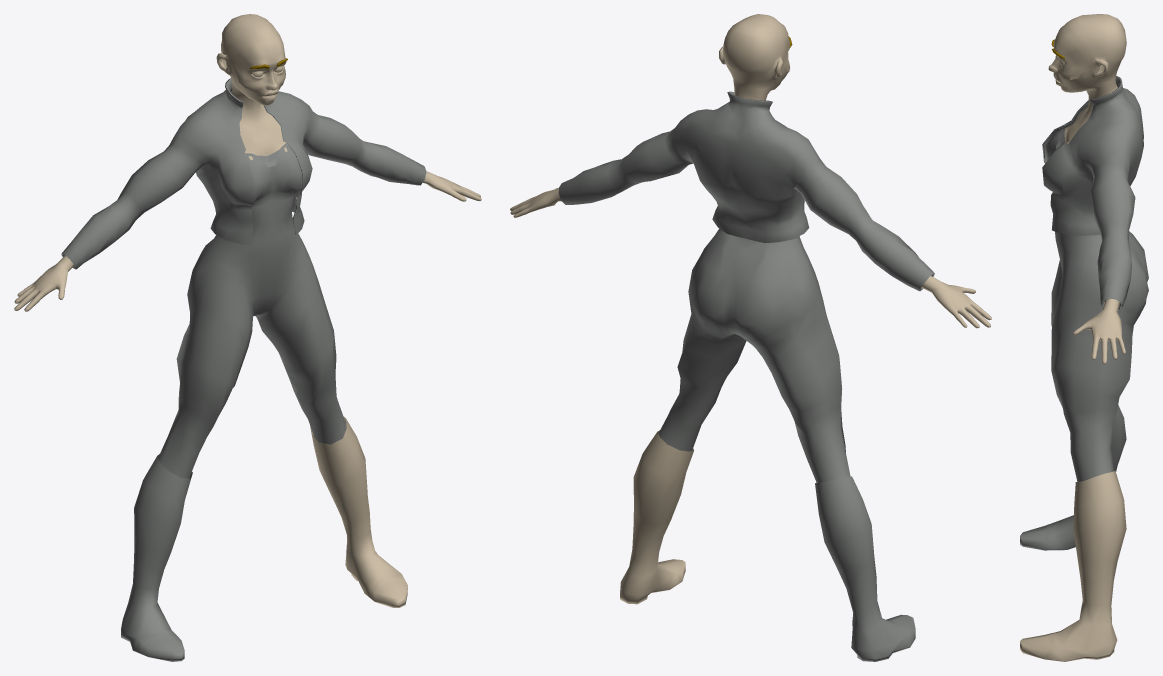
Rendered from Hero_UV_Maps.fbx.
3 views of the same model, side by side, from view 1: azimuth 30°, elevation 25°; view 2: azimuth 150°, elevation 25°; view 3: azimuth 270°, elevation 25° (orthographic). The views are drawn at different scales.
Parts seen in each view (by area): view 1: Suit_Geo, Body1, Jacket_Geo; view 2: Suit_Geo, Jacket_Geo, Body1; view 3: Body1, Suit_Geo, Jacket_Geo.
Boxes of the visible parts, x1,y1,x2,y2 form: Suit_Geo: (158,143,346,478); Body1: (14,14,481,661); Jacket_Geo: (61,78,426,269); Suit_Geo: (658,228,850,482); Jacket_Geo: (558,91,934,291); Body1: (510,14,991,661); Body1: (1020,14,1126,661); Suit_Geo: (1045,123,1148,481); Jacket_Geo: (1042,76,1143,309).
Size of the model in its own units: 29.28 by 35.23 by 7.1.
